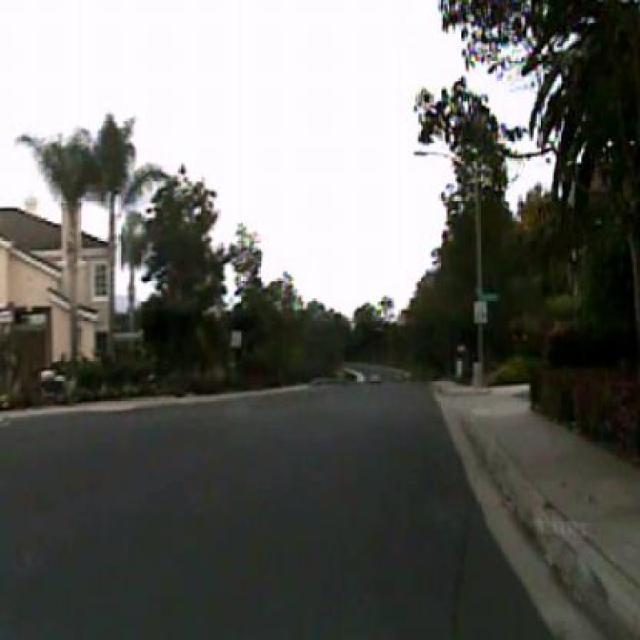speedLimitUrdbl: (472, 300, 487, 324), (231, 329, 242, 347)
